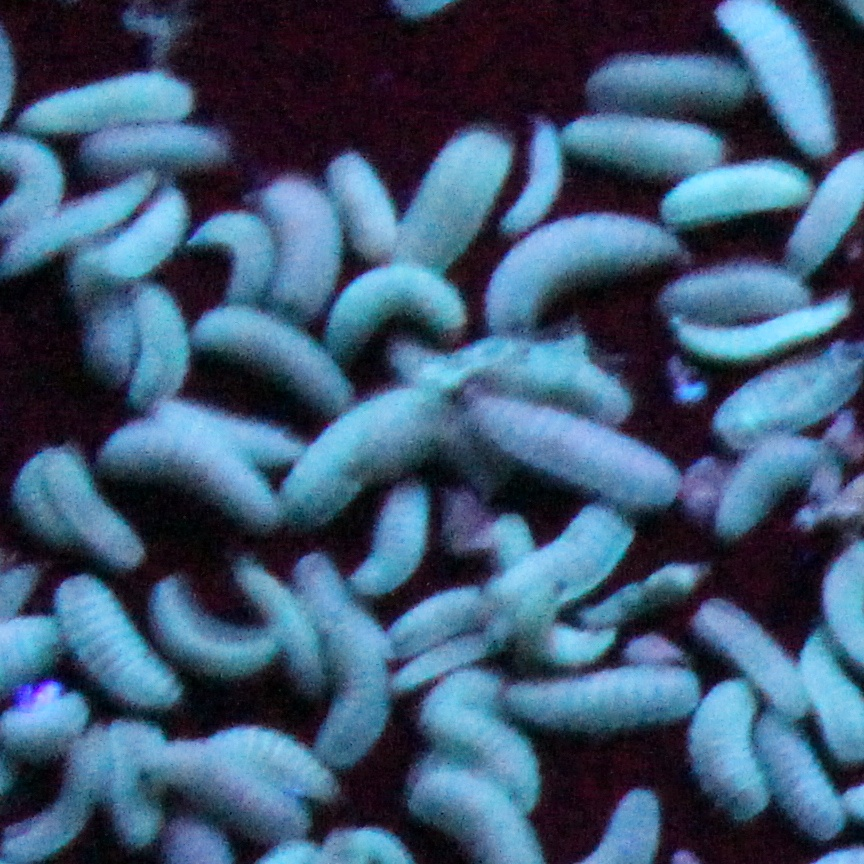larve: (474, 396, 673, 510), (291, 398, 446, 515), (101, 424, 267, 526), (491, 223, 655, 320), (731, 5, 827, 151), (14, 453, 133, 562), (58, 583, 166, 701), (488, 511, 626, 603), (10, 176, 148, 267), (201, 311, 332, 403), (402, 147, 508, 256), (317, 583, 377, 752), (699, 603, 799, 702), (157, 580, 272, 666), (244, 561, 323, 686), (716, 445, 830, 530), (428, 677, 530, 771), (521, 669, 687, 726), (21, 759, 112, 857), (759, 720, 830, 835), (356, 481, 428, 592), (202, 732, 323, 796), (265, 193, 331, 307), (85, 212, 183, 287), (336, 281, 460, 339), (594, 60, 734, 110), (397, 587, 493, 654), (571, 122, 700, 171), (25, 82, 177, 122), (673, 169, 793, 219), (710, 690, 756, 816), (332, 164, 394, 254), (680, 313, 820, 352), (110, 725, 158, 836), (133, 288, 177, 396), (670, 279, 798, 313), (79, 135, 221, 165), (210, 220, 261, 299), (2, 138, 49, 221), (13, 698, 85, 750), (519, 130, 558, 223)
